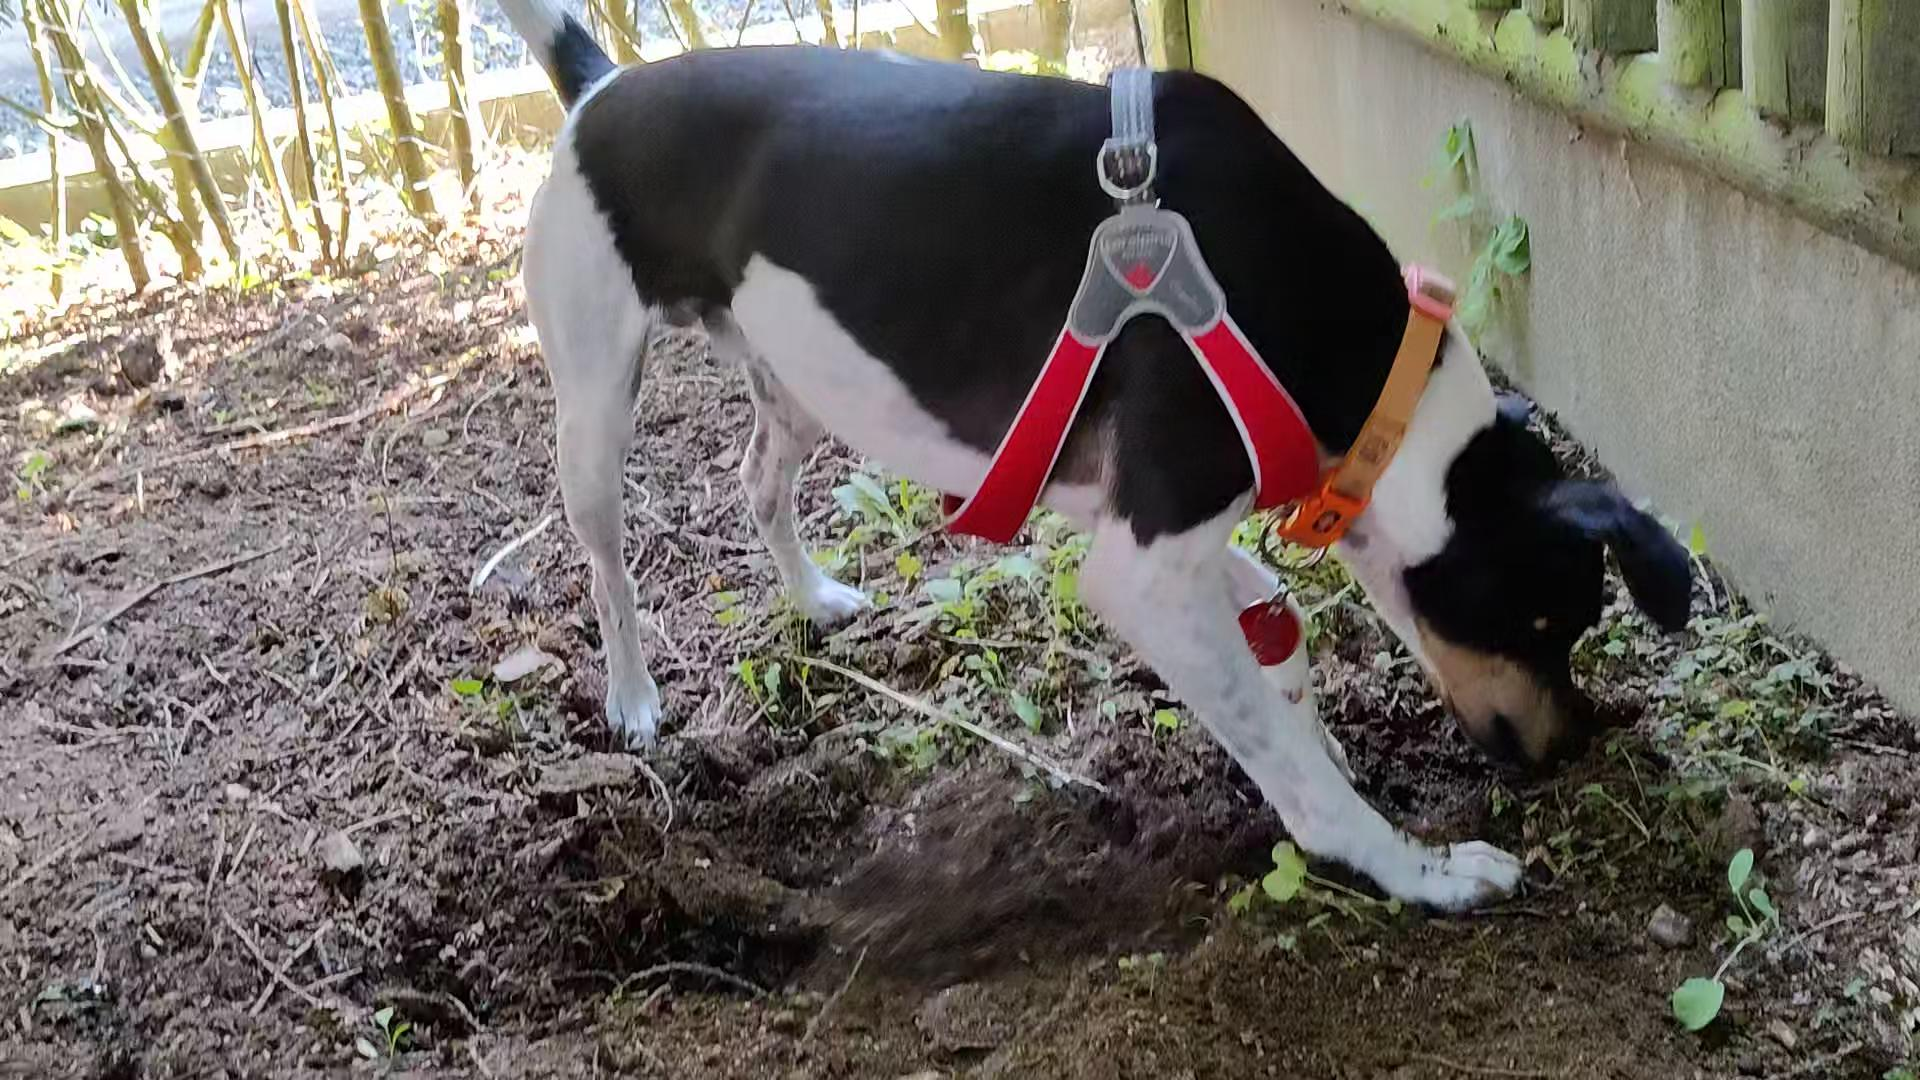Dog: (460, 0, 1735, 939)
